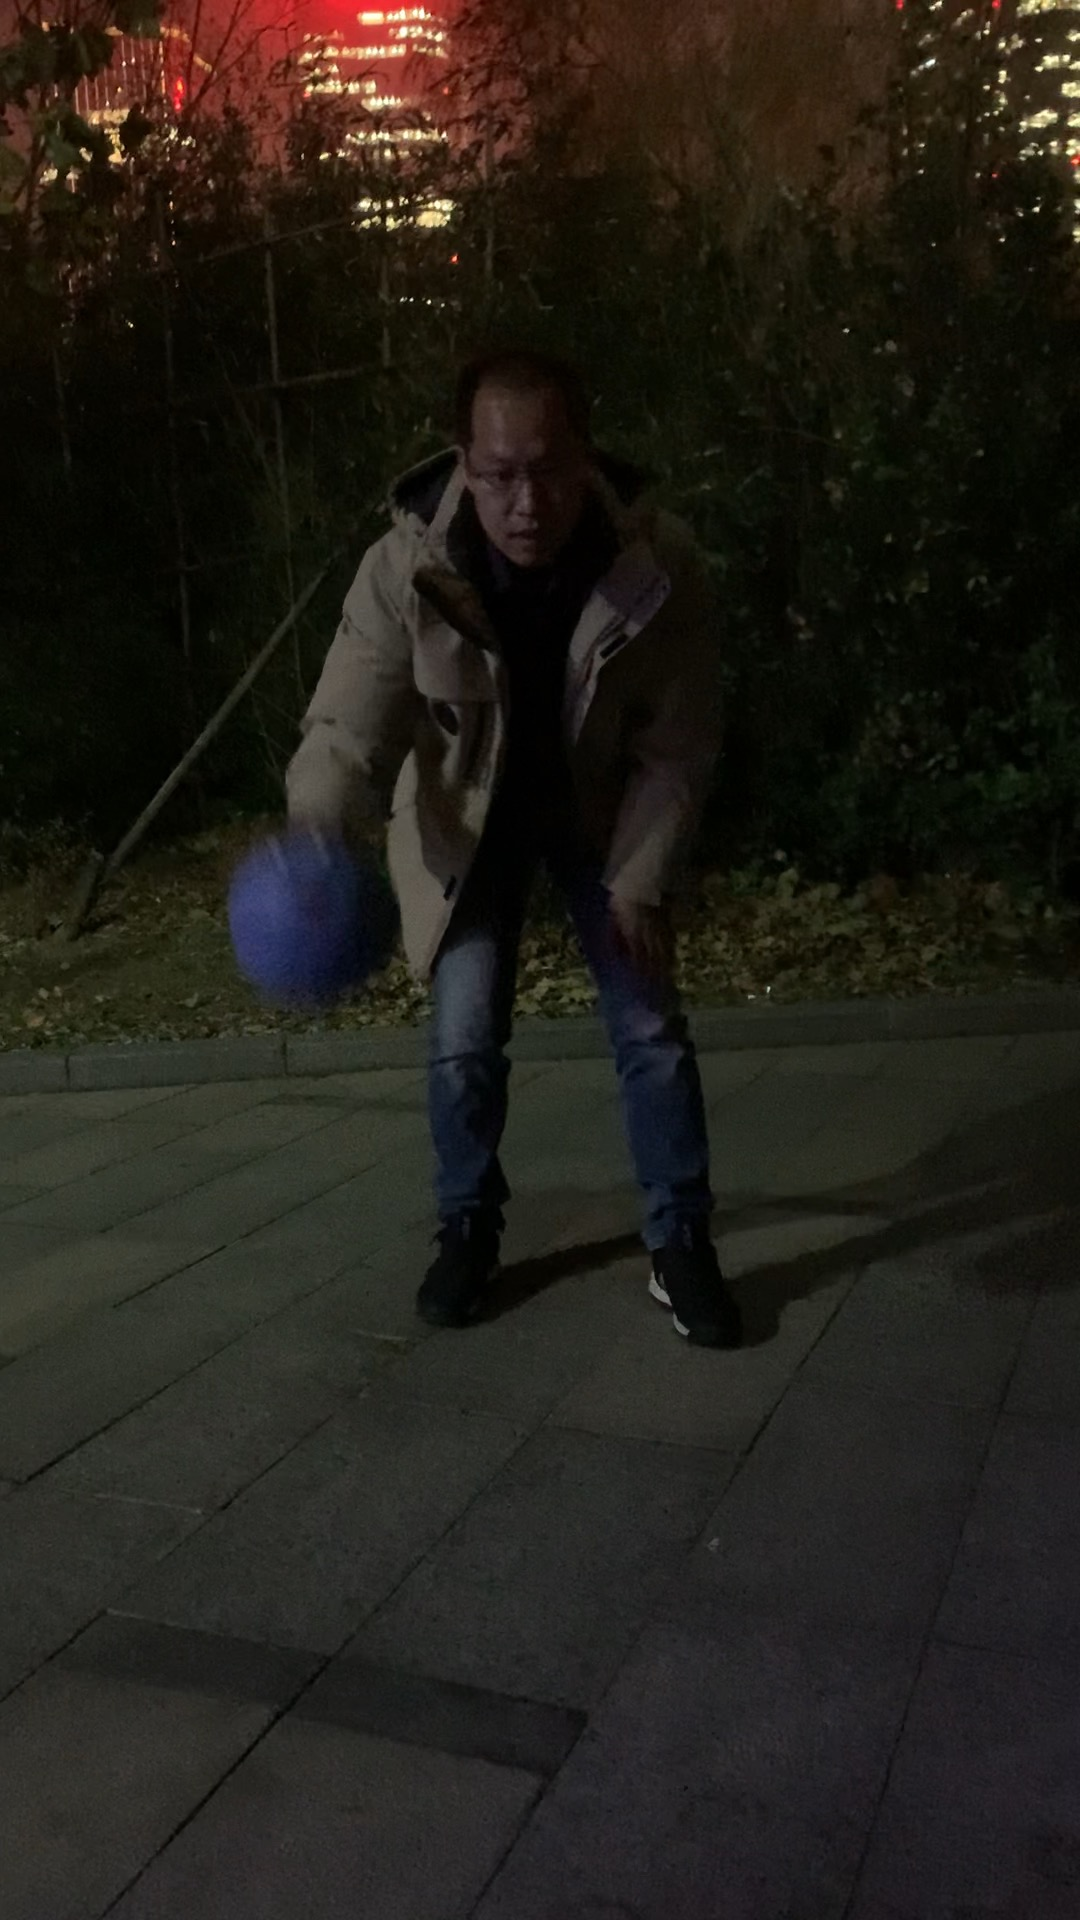ball: (224, 825, 404, 1010)
